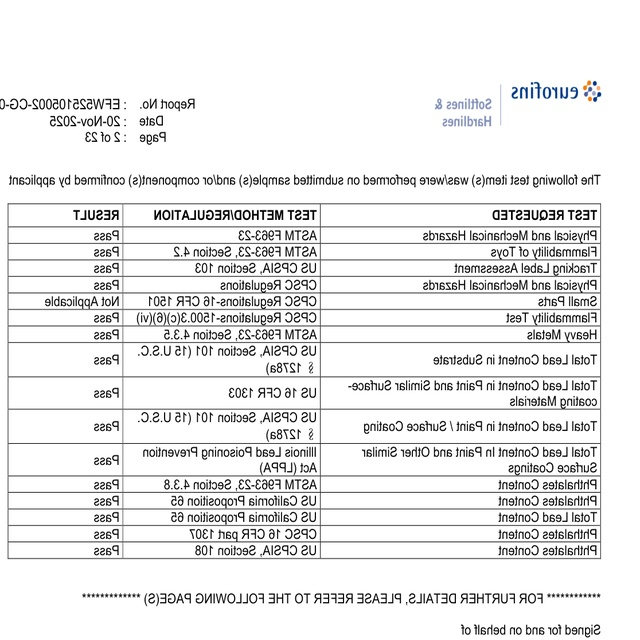eurofins: (507, 78, 609, 108)
